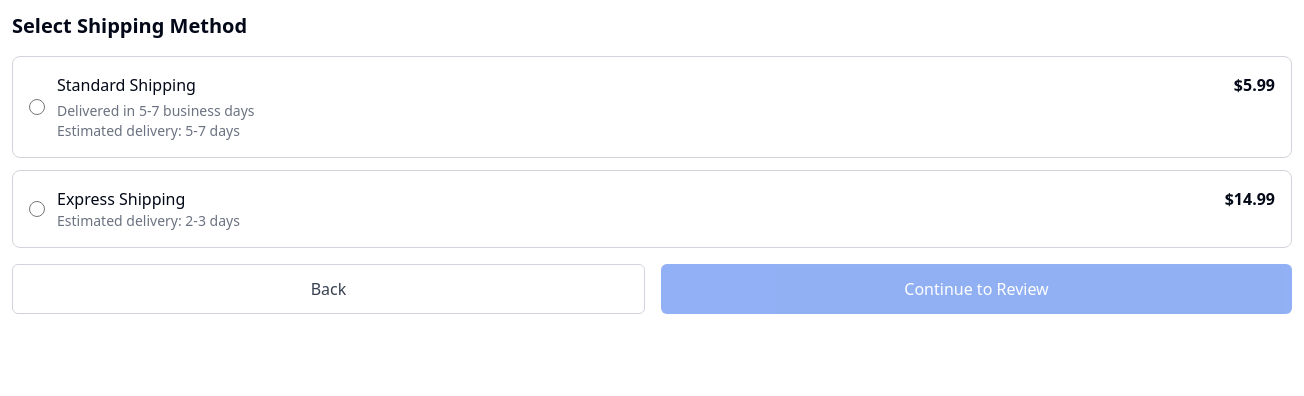
Test: ShippingMethodSelector › displays error from API failure
Click the text "Standard Shipping": (126, 85) [12, 56, 1292, 158]
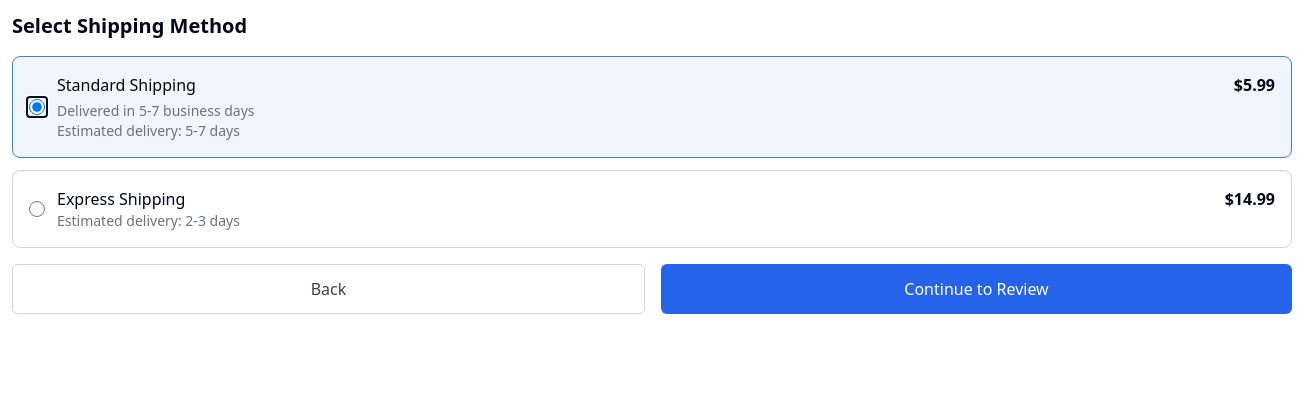
Click the button "Continue to Review": (976, 289) [661, 264, 1292, 314]
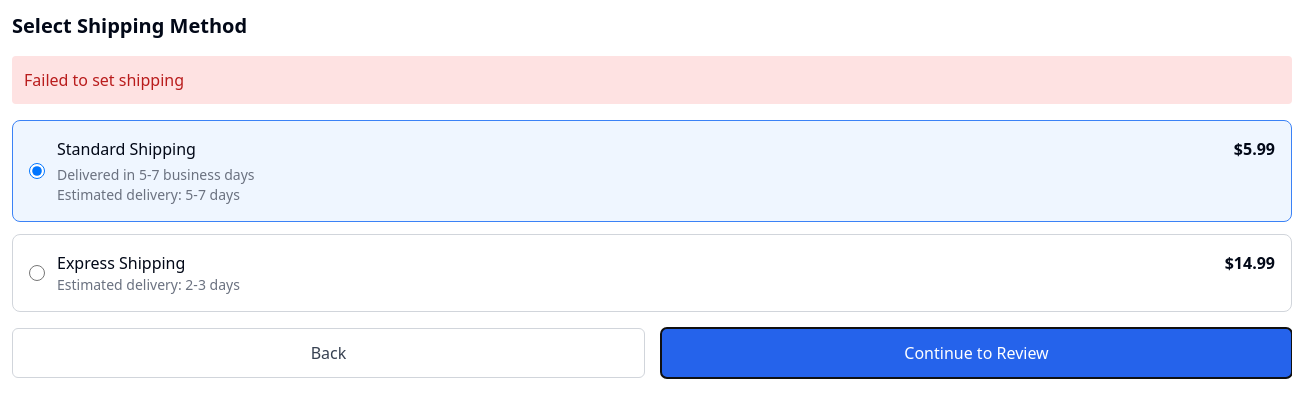
Expected: the message reads "Failed to set shipping", [24, 69, 184, 91]
